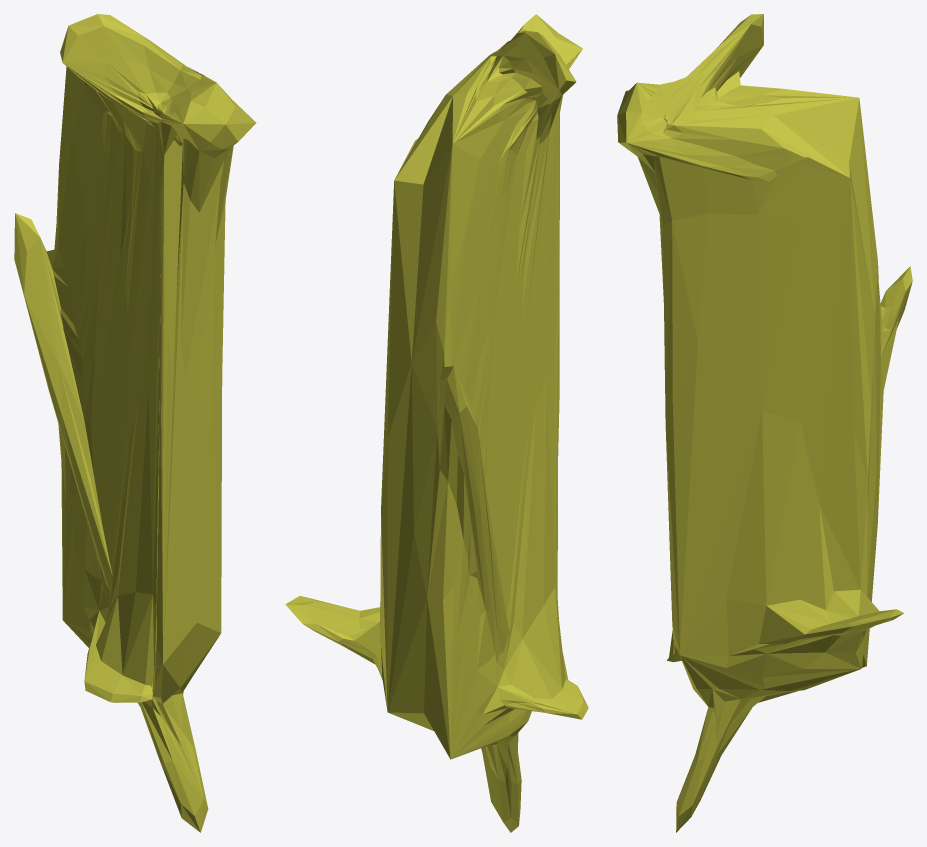
3 views of the same model, side by side, from view 1: azimuth 30°, elevation 25°; view 2: azimuth 150°, elevation 25°; view 3: azimuth 270°, elevation 25° (orthographic). The views are drawn at different scales.
Parts seen in each view (by area): view 1: 809_Cube.3260; view 2: 809_Cube.3260; view 3: 809_Cube.3260.
Part boxes in pixels (bbox=[...]): 809_Cube.3260: bbox=[14, 14, 256, 832]; 809_Cube.3260: bbox=[285, 14, 588, 832]; 809_Cube.3260: bbox=[617, 14, 912, 832].
Bounding box in the file's own units: 4.45 × 16.28 × 5.54.
